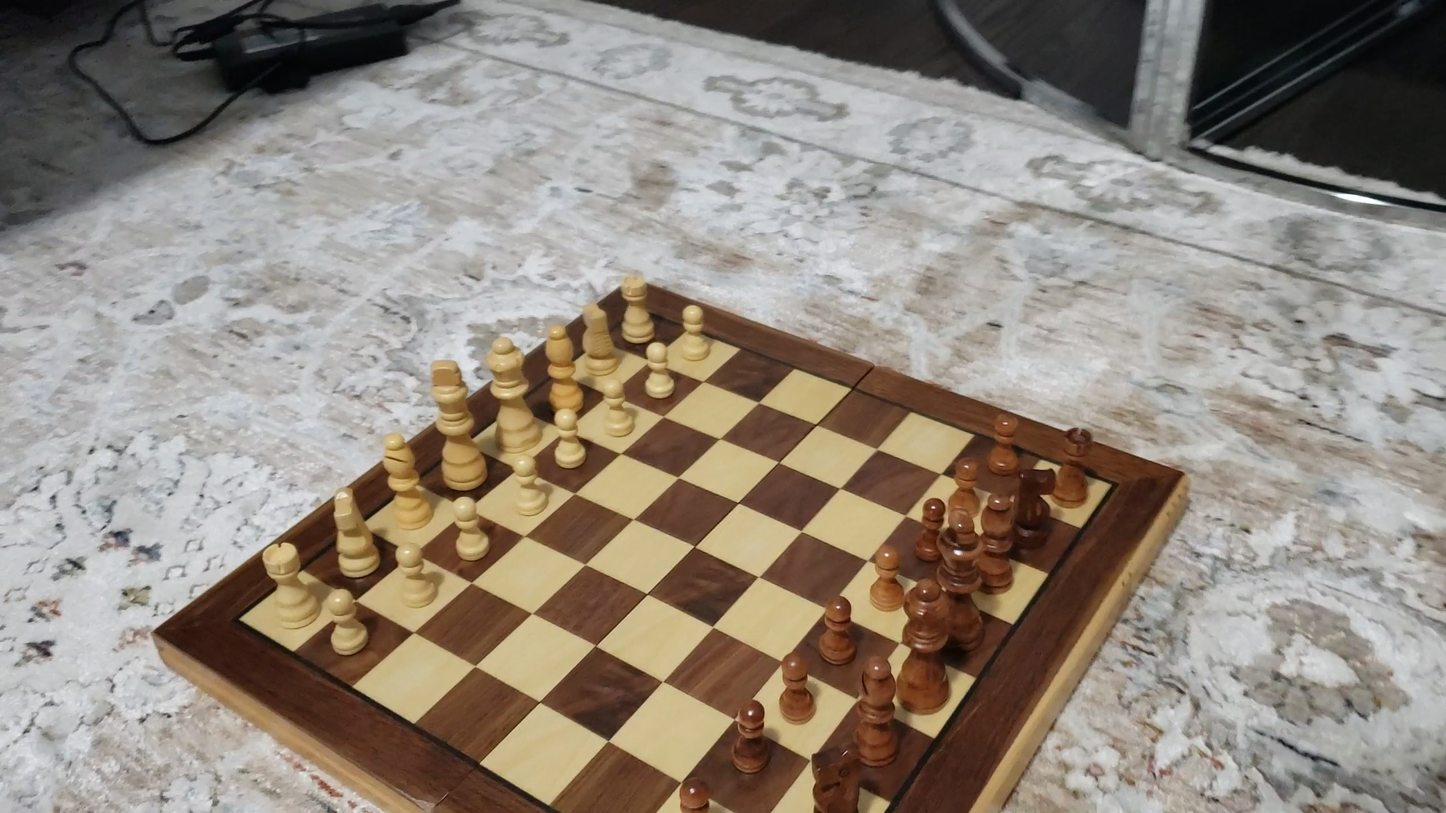black-bishop: (852, 657, 901, 767), (975, 491, 1018, 592)
black-king: (930, 505, 991, 655)
black-knight: (1010, 463, 1057, 544), (808, 742, 863, 811)
black-pawn: (815, 592, 859, 668), (776, 649, 817, 728), (730, 698, 771, 777), (867, 543, 907, 613), (946, 457, 985, 525), (912, 496, 950, 563), (985, 412, 1022, 478), (675, 773, 712, 812)
black-queen: (891, 578, 959, 715)
black-rook: (1055, 422, 1095, 507)
white-bishop: (378, 431, 431, 531), (541, 320, 581, 419)
white-king: (425, 357, 487, 493)
white-knight: (329, 488, 380, 579), (576, 301, 619, 383)
white-pawn: (316, 584, 376, 661), (387, 540, 442, 613), (442, 493, 496, 566), (502, 452, 551, 520), (546, 406, 591, 474), (596, 377, 641, 442), (674, 300, 715, 365), (639, 339, 679, 402)
white-queen: (485, 333, 542, 457)
white-rook: (256, 540, 321, 631), (616, 268, 655, 348)
